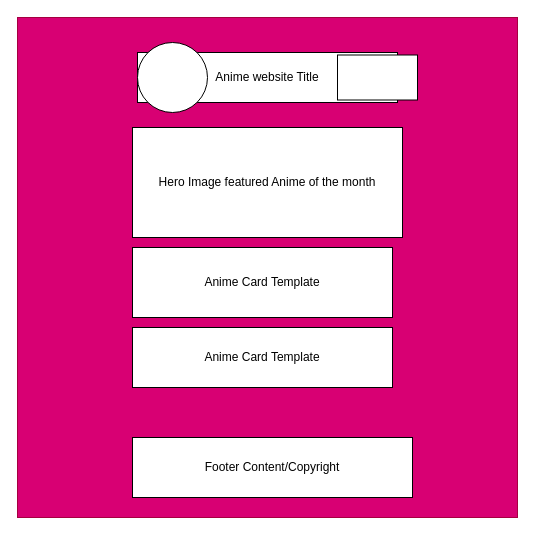
This 535x535 diagram has some shape labels left out. Here are the shapes that lost their labels. From the top down, the centre of each, then its label:
pixel 172 77: Favicon
pixel 377 77: Hamburger menu Search
